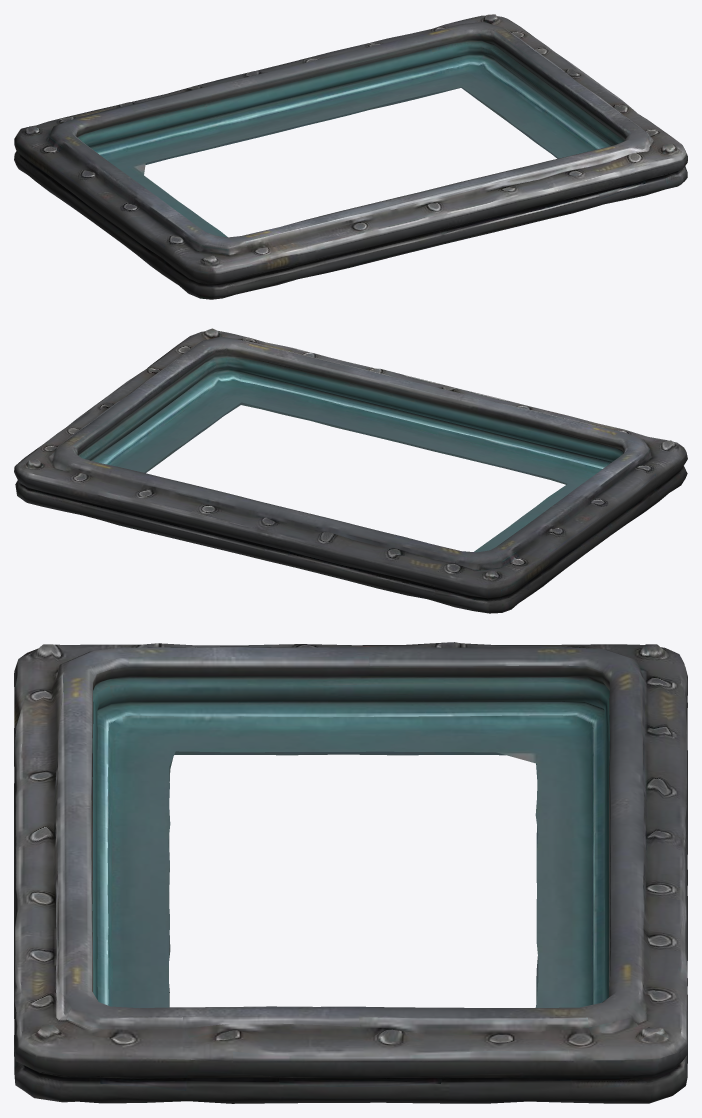
Rendered from trappe.glb.
The picture shows the model from 3 angles, top to bottom: view 1: azimuth 30°, elevation 25°; view 2: azimuth 150°, elevation 25°; view 3: azimuth 270°, elevation 25°; orthographic projection. The views are drawn at different scales.
Visible parts, largest first — view 1: tripo_node_9e954263-5735-4284-93f6-d2f003feb584; view 2: tripo_node_9e954263-5735-4284-93f6-d2f003feb584; view 3: tripo_node_9e954263-5735-4284-93f6-d2f003feb584.
Part boxes in pixels (x1,y1,x2,y2): tripo_node_9e954263-5735-4284-93f6-d2f003feb584: (14,14,687,299); tripo_node_9e954263-5735-4284-93f6-d2f003feb584: (14,328,687,613); tripo_node_9e954263-5735-4284-93f6-d2f003feb584: (14,642,687,1103).
Size of the model in its own units: 0.9998 by 0.076 by 0.6891.
Materials: 1 (1 with a texture image).
